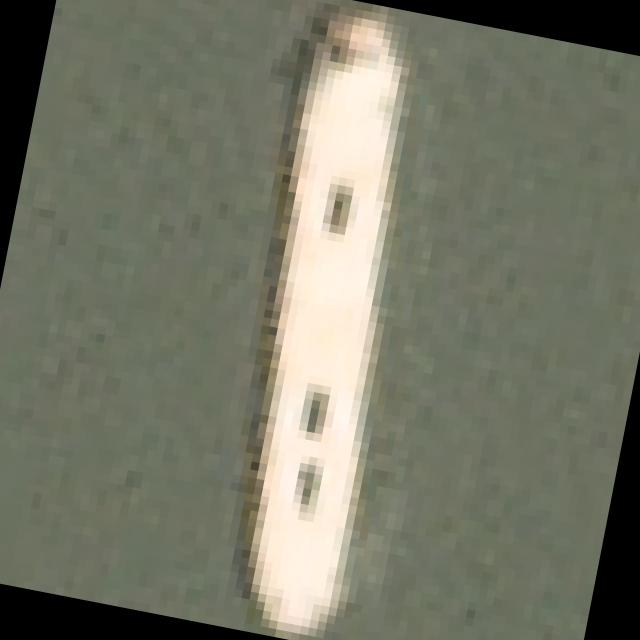ship: (118, 0, 520, 640)
